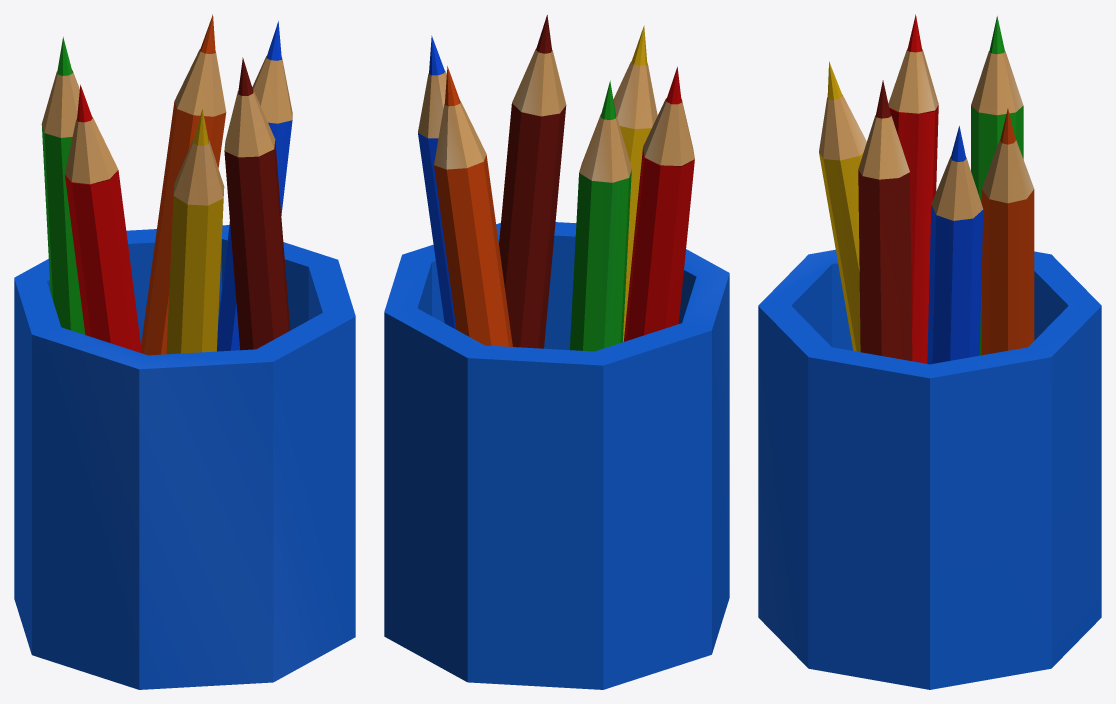
Rendered from LapisLata.fbx.
The picture shows the model from 3 angles, left to right: view 1: azimuth 30°, elevation 25°; view 2: azimuth 150°, elevation 25°; view 3: azimuth 270°, elevation 25°; orthographic projection. The views are drawn at different scales.
Visible parts, largest first — view 1: LapisLata; view 2: LapisLata; view 3: LapisLata.
Part boxes in pixels (box(x1,y1,x2,y2)): LapisLata: box(14, 14, 355, 689); LapisLata: box(384, 15, 729, 689); LapisLata: box(758, 14, 1101, 689).
Size of the model in its own units: 7.06 by 12.71 by 7.06.
